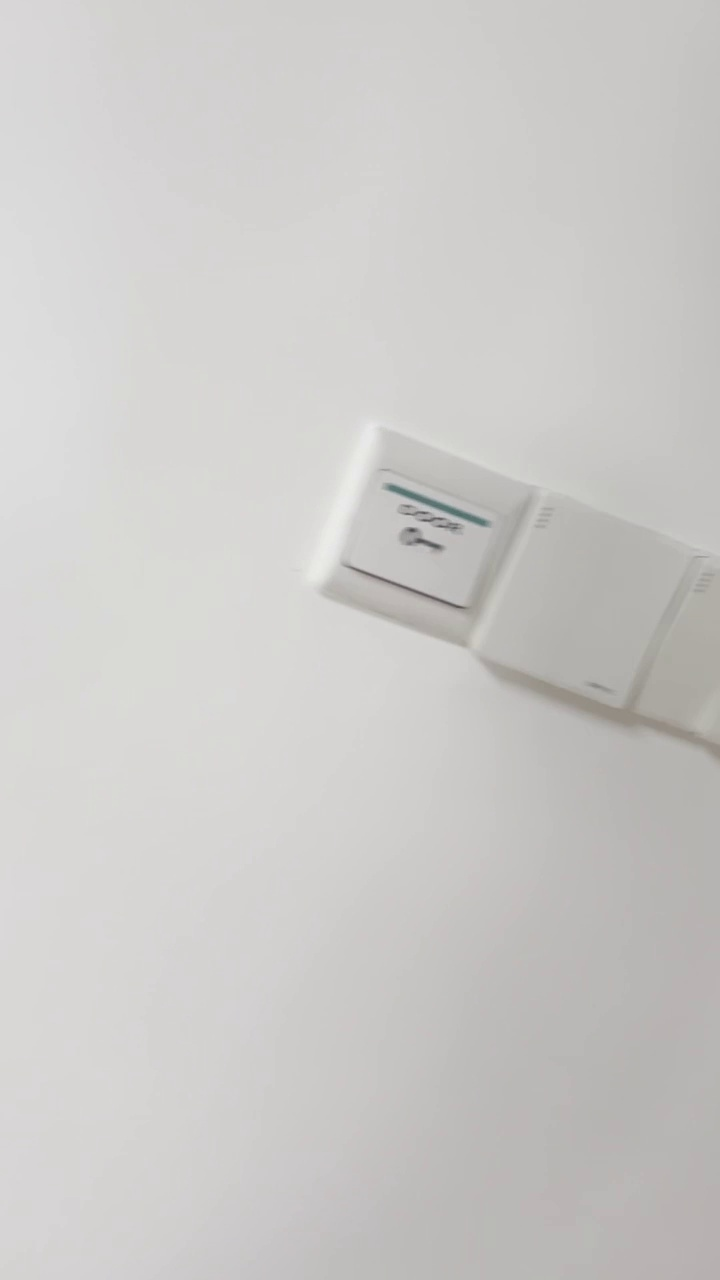button: (462, 481, 701, 729)
